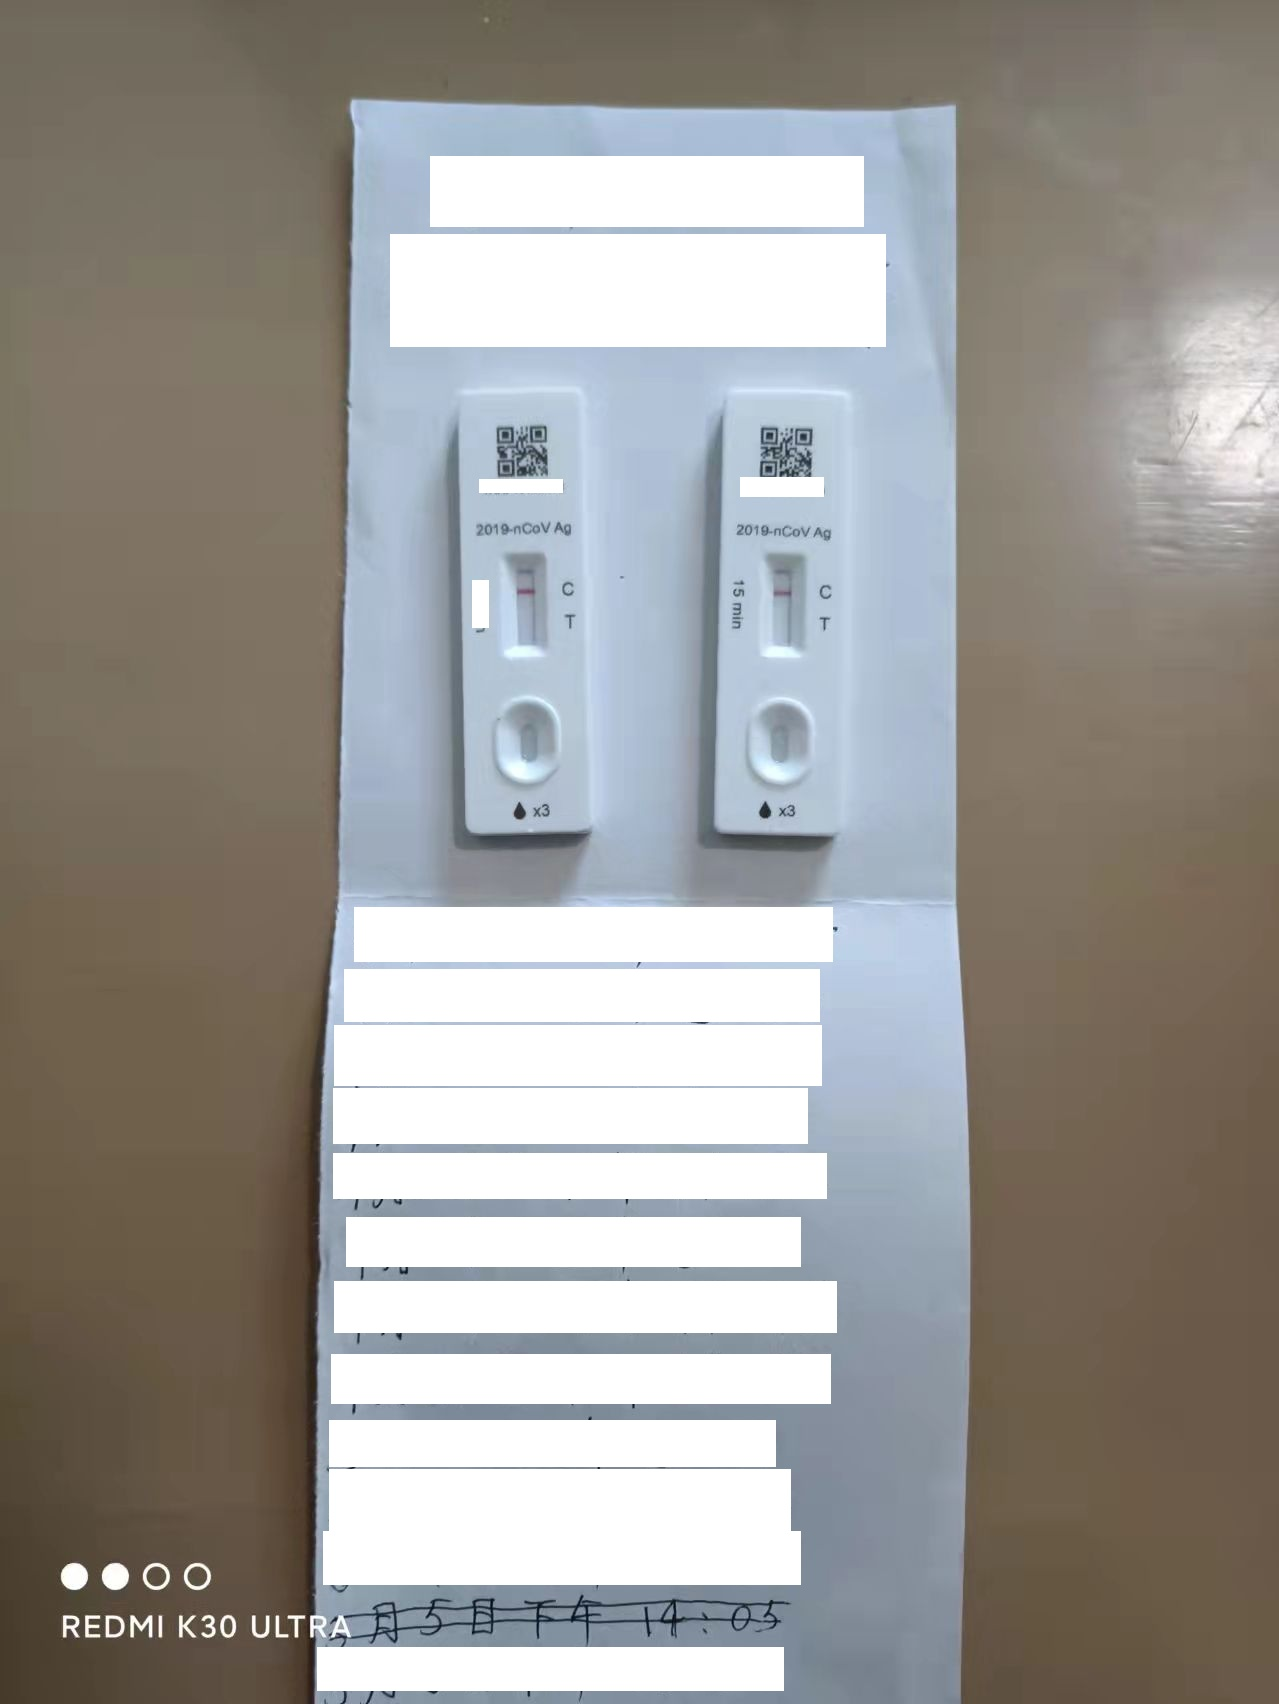negative: (504, 553, 545, 657), (764, 555, 803, 657)
